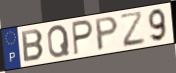9: (147, 7, 169, 43)
B: (20, 28, 46, 63)
P: (95, 15, 120, 53), (71, 18, 95, 57)
Q: (47, 24, 72, 60)
Z: (119, 10, 147, 49)
